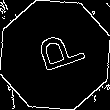P_W: (25, 29, 85, 81)
